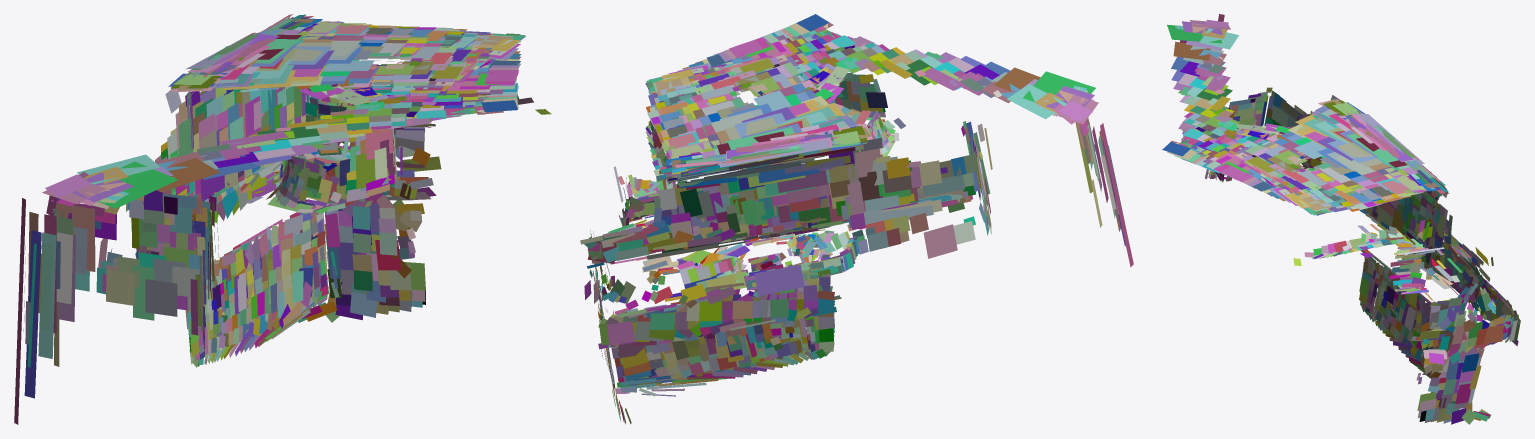
Rendered from planarSplat_rawPrims_normalized_colorPrim.glb.
The picture shows the model from 3 angles, left to right: view 1: azimuth 30°, elevation 25°; view 2: azimuth 150°, elevation 25°; view 3: azimuth 270°, elevation 25°; orthographic projection. The views are drawn at different scales.
Parts seen in each view (by area): view 1: planarSplat_rawPrims_normalized_colorPrim.ply; view 2: planarSplat_rawPrims_normalized_colorPrim.ply; view 3: planarSplat_rawPrims_normalized_colorPrim.ply.
Boxes of the visible parts, x1,y1,x2,y2 form: planarSplat_rawPrims_normalized_colorPrim.ply: [14, 14, 551, 424]; planarSplat_rawPrims_normalized_colorPrim.ply: [580, 14, 1133, 424]; planarSplat_rawPrims_normalized_colorPrim.ply: [1162, 14, 1520, 424].
Bounding box in the file's own units: 4.32 × 2.76 × 3.36.
